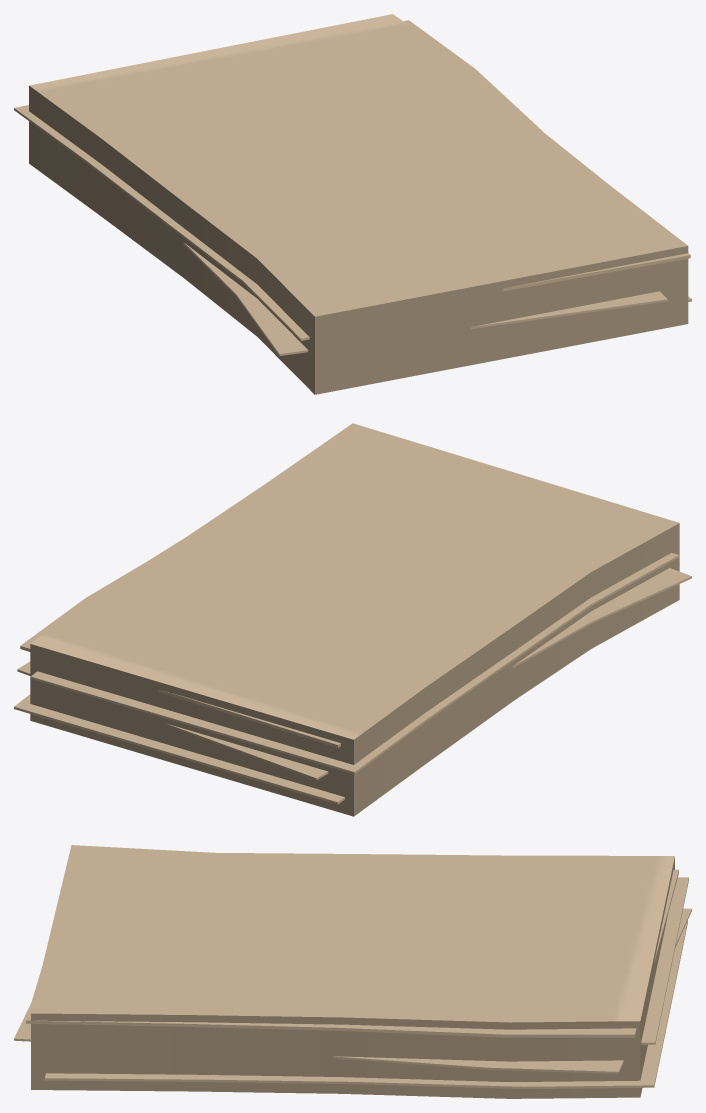
File: PaperStack.fbx
3 views of the same model, one above another, from view 1: azimuth 30°, elevation 25°; view 2: azimuth 150°, elevation 25°; view 3: azimuth 270°, elevation 25° (orthographic). The views are drawn at different scales.
Visible parts, largest first — view 1: staticStackOfPaper; view 2: staticStackOfPaper; view 3: staticStackOfPaper.
Boxes of the visible parts, box(x1,y1,x2,y2) form: staticStackOfPaper: box(14, 14, 691, 394); staticStackOfPaper: box(14, 423, 691, 816); staticStackOfPaper: box(14, 845, 691, 1098).
Bounding box in the file's own units: 2.12 × 0.3792 × 3.05.
1 material, 1 textured.
